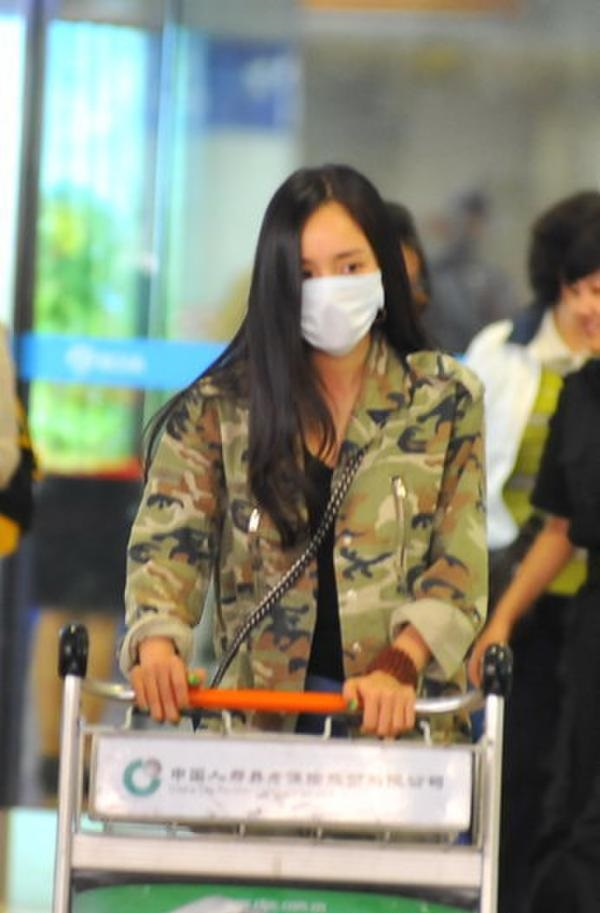face: (560, 258, 599, 353)
face_mask: (289, 203, 380, 350)
